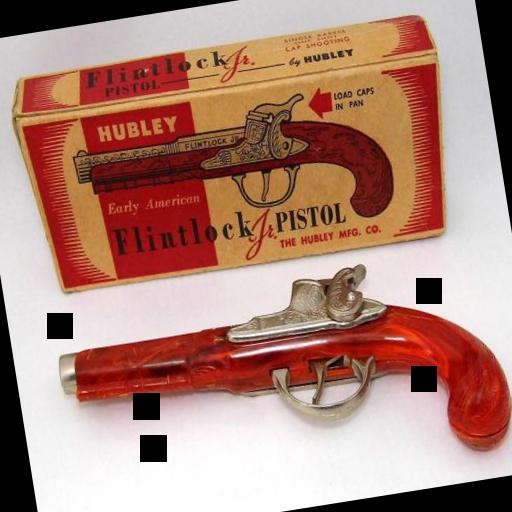Handgun: (40, 243, 512, 512)
